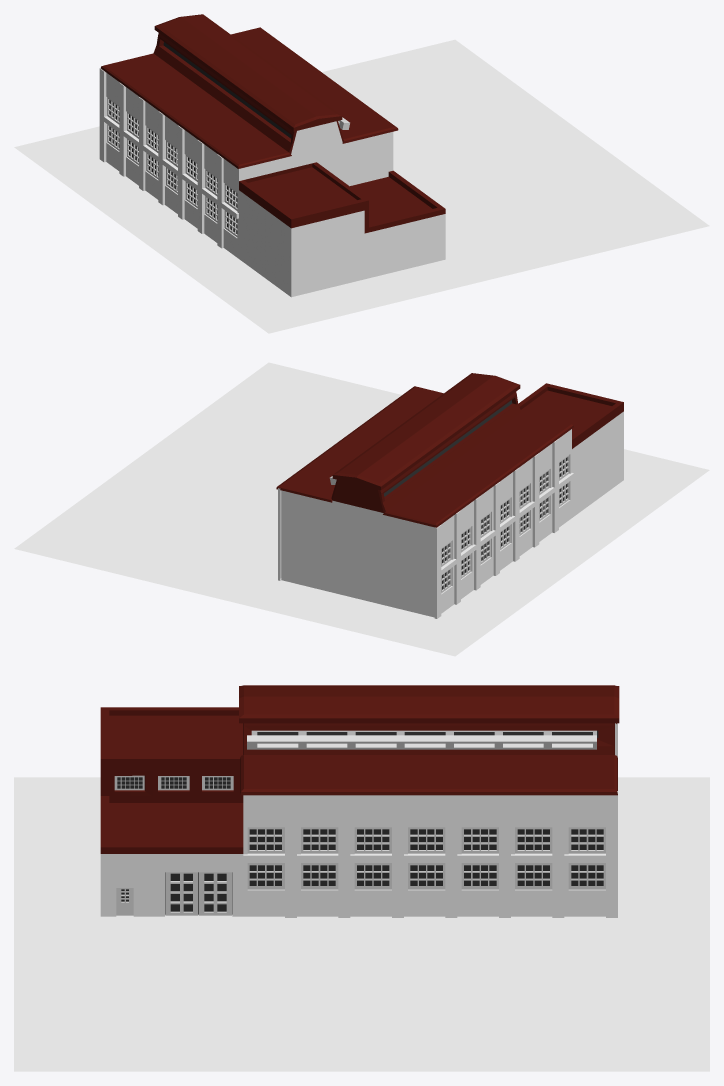
File: factory.glb
3 renders of one model, top to bottom at view 1: azimuth 30°, elevation 25°; view 2: azimuth 150°, elevation 25°; view 3: azimuth 270°, elevation 25°, orthographic. The views are drawn at different scales.
Parts seen in each view (by area): view 1: Plane.006, Factory, Factory.001, Cube.029; view 2: Plane.006, Factory, Factory.001, Cube.029; view 3: Plane.006, Factory, Factory.001, Cube.029, Cube.031, Cube.026, Cube.027.
Boxes of the visible parts, bbox=[...] form: Plane.006: bbox=[14, 39, 709, 333]; Factory: bbox=[100, 14, 445, 297]; Factory.001: bbox=[99, 68, 238, 258]; Cube.029: bbox=[107, 97, 237, 236]; Plane.006: bbox=[14, 362, 709, 656]; Factory: bbox=[276, 373, 623, 617]; Factory.001: bbox=[278, 429, 573, 618]; Cube.029: bbox=[441, 455, 569, 593]; Plane.006: bbox=[14, 777, 709, 1071]; Factory: bbox=[100, 685, 619, 916]; Factory.001: bbox=[243, 723, 617, 917]; Cube.029: bbox=[247, 827, 605, 889]; Cube.031: bbox=[247, 730, 596, 749]; Cube.026: bbox=[165, 872, 231, 915]; Cube.027: bbox=[114, 775, 233, 790].
Bounding box in the file's own units: 4 × 1.07 × 4.
1 material, 1 textured.
